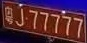J: (15, 8, 24, 27)
